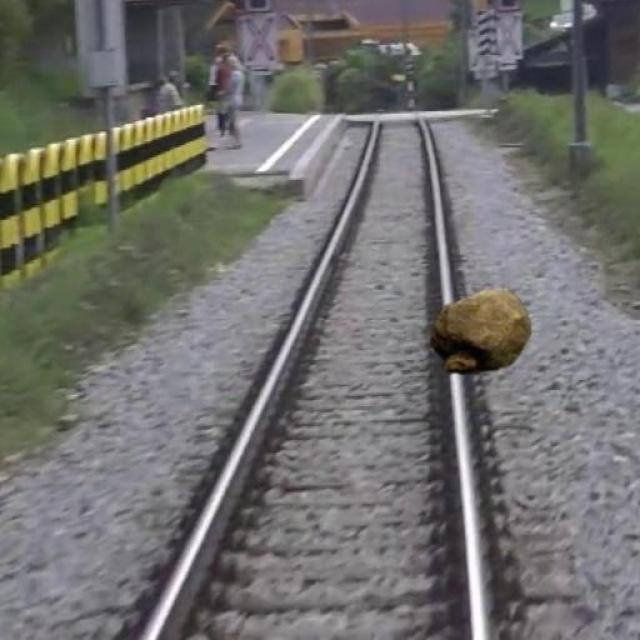Stone: (434, 287, 537, 380)
